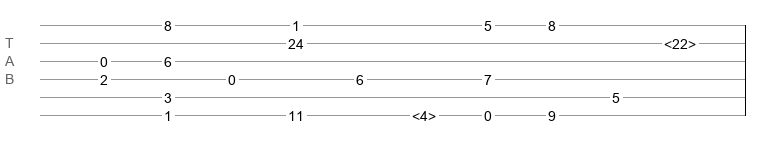0: (100, 54, 108, 64), (228, 72, 236, 82), (484, 108, 492, 118)
1: (164, 108, 172, 118), (292, 18, 300, 28)
11: (288, 108, 304, 118)
2: (100, 72, 108, 82)
24: (288, 36, 304, 46)
3: (164, 90, 172, 100)
5: (484, 18, 492, 28), (612, 90, 620, 100)
6: (164, 54, 172, 64), (356, 72, 364, 82)
7: (484, 72, 492, 82)
8: (164, 18, 172, 28), (548, 18, 556, 28)
9: (548, 108, 556, 118)
harmonic: (664, 36, 696, 46), (412, 108, 436, 118)
